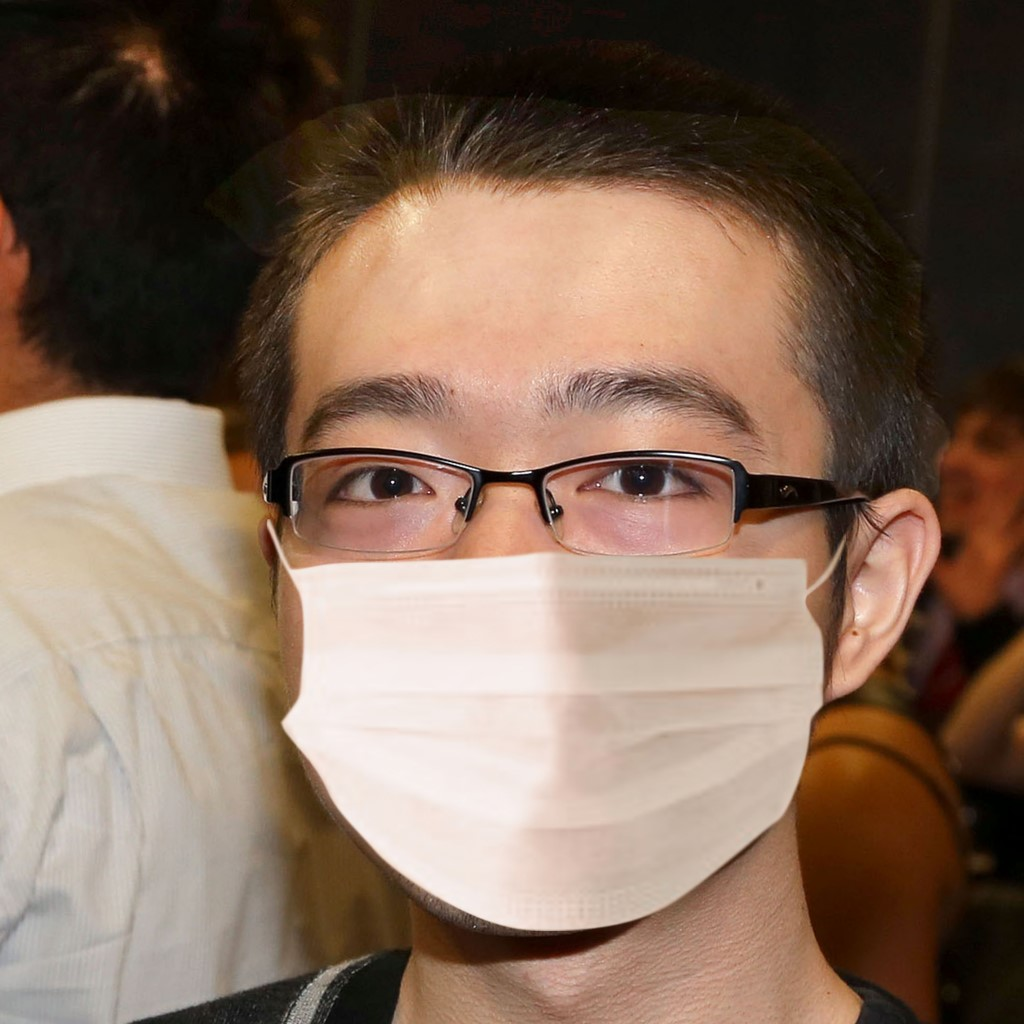con_mascara: (258, 124, 864, 916)
